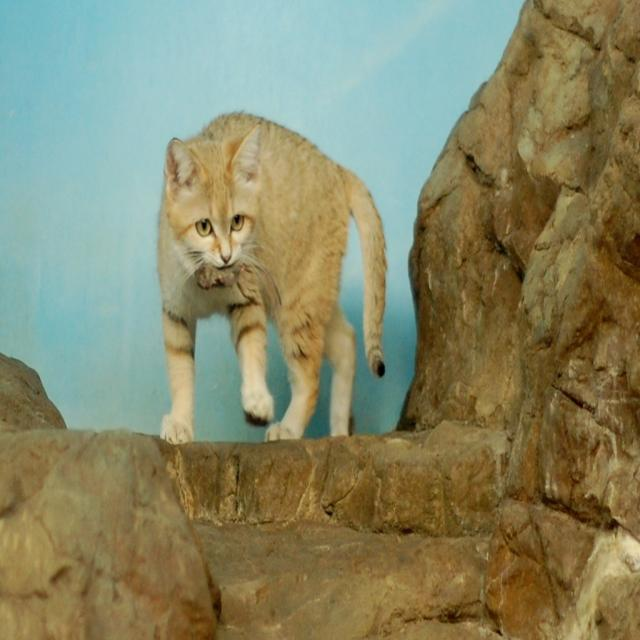Cat: (154, 109, 386, 441)
